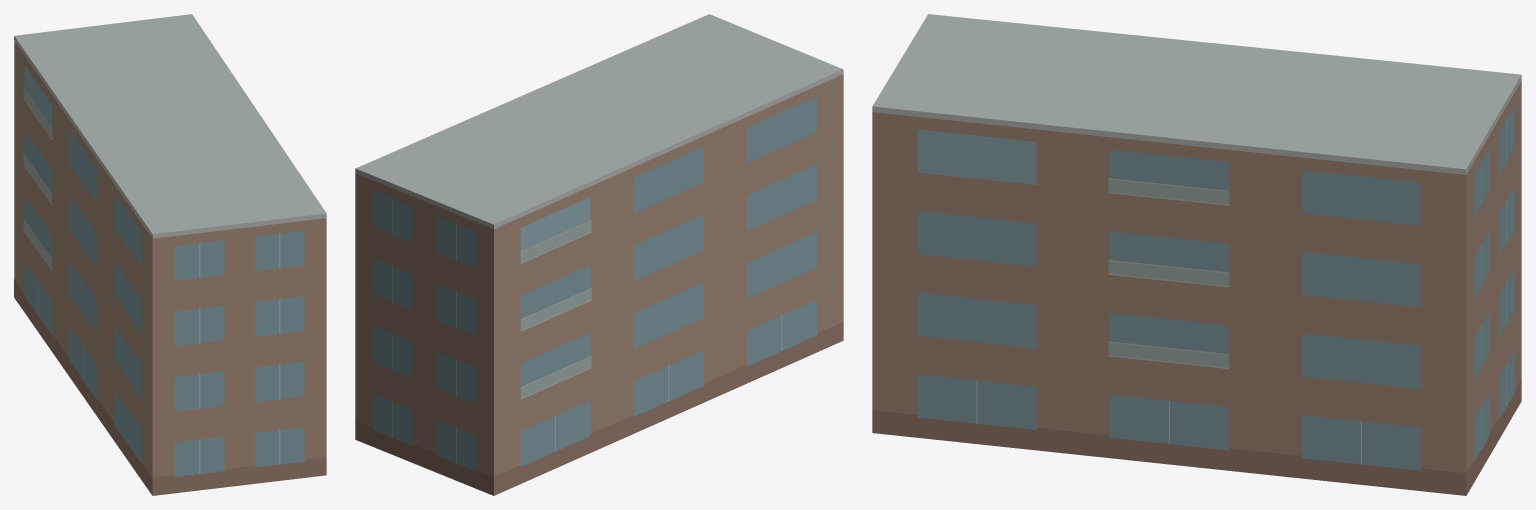
Rendered from survey-upis-33014559.glb.
3 views of the same model, side by side, from view 1: azimuth 30°, elevation 25°; view 2: azimuth 150°, elevation 25°; view 3: azimuth 270°, elevation 25° (orthographic). The views are drawn at different scales.
Visible parts, largest first — view 1: survey-upis-33014559.tmp; view 2: survey-upis-33014559.tmp; view 3: survey-upis-33014559.tmp.
Boxes of the visible parts, x1=… form: survey-upis-33014559.tmp: x1=14, y1=14, x2=326, y2=495; survey-upis-33014559.tmp: x1=355, y1=14, x2=843, y2=495; survey-upis-33014559.tmp: x1=872, y1=14, x2=1521, y2=495.
Size of the model in its own units: 14.3 by 14 by 25.24.
